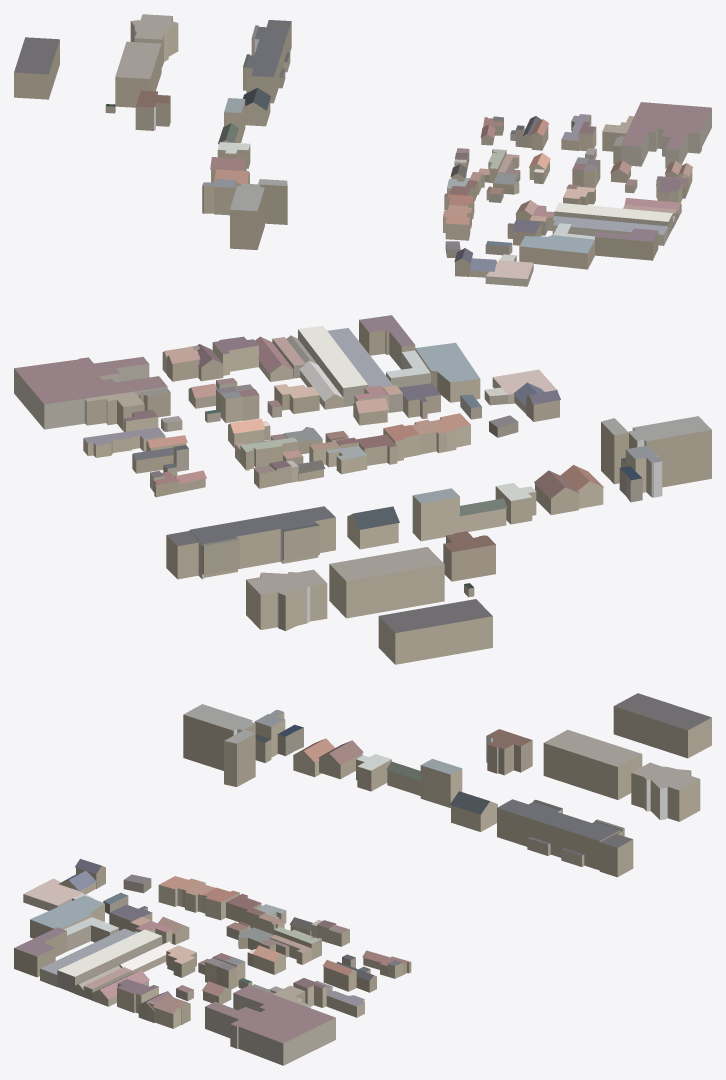
The picture shows the model from 3 angles, top to bottom: view 1: azimuth 30°, elevation 25°; view 2: azimuth 150°, elevation 25°; view 3: azimuth 270°, elevation 25°; orthographic projection. The views are drawn at different scales.
Visible parts, largest first — view 1: tuile; view 2: tuile; view 3: tuile.
Boxes of the visible parts, box(x1,y1,x2,y2) form: tuile: box(14, 14, 711, 286); tuile: box(14, 315, 711, 664); tuile: box(14, 693, 711, 1065).
Size of the model in its own units: 272 by 35.33 by 273.
